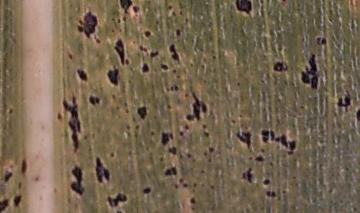tarspot: (61, 91, 83, 155), (258, 126, 298, 151), (297, 52, 321, 91), (75, 7, 101, 42), (183, 87, 208, 122), (68, 162, 89, 200), (93, 153, 112, 186), (234, 126, 254, 151), (110, 35, 127, 64), (103, 65, 123, 87), (233, 1, 254, 20), (105, 192, 131, 206), (166, 41, 180, 64), (336, 90, 351, 111), (271, 58, 288, 75), (74, 66, 90, 84), (159, 129, 173, 146), (240, 166, 254, 183), (162, 164, 179, 177), (18, 156, 29, 176), (136, 104, 148, 122), (87, 94, 102, 108), (118, 1, 132, 16), (315, 35, 329, 48), (12, 193, 24, 208), (250, 153, 267, 163), (1, 195, 11, 212), (2, 169, 14, 183), (139, 61, 151, 75), (139, 184, 154, 195), (166, 144, 179, 156), (265, 188, 277, 201), (140, 29, 154, 40), (147, 48, 162, 58), (260, 175, 271, 188), (202, 129, 212, 141), (207, 143, 216, 156), (187, 195, 197, 206), (169, 83, 180, 93), (54, 109, 62, 122), (158, 62, 168, 72), (355, 105, 360, 124), (131, 4, 141, 13), (173, 27, 181, 38), (178, 130, 187, 138), (182, 123, 190, 130)
